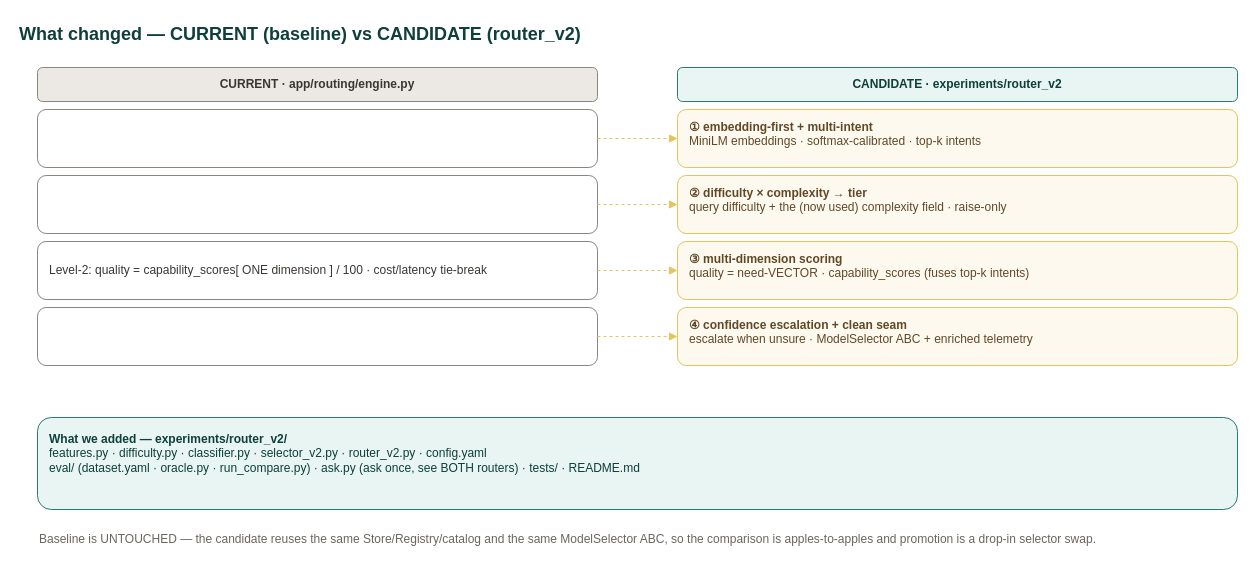
Some shapes in this 1255 by 582 pixel diagram are drawn without their labels. The shapes that lost their labels are listed below. From the top down, each one's centre as x and y in pixels, then its label:
the point at 317,138: classify: KEYWORD substring · single intent · confidence hard-coded 0.6 / 0.8
the point at 317,204: tier: STATIC intent.default_tier · the complexity field is IGNORED
the point at 317,336: no difficulty · no escalation · no multi-intent (escalated is always false)
